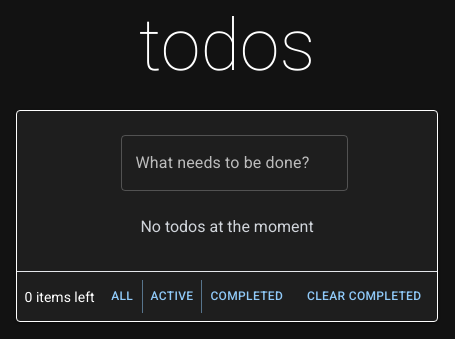
Scenario: Button appearance test › Button appears if input is not empty
The image size is (455, 339).
Type "New task" into the field with test id "input-task" at (235, 163), box x1=122 y1=135 x2=348 y2=191
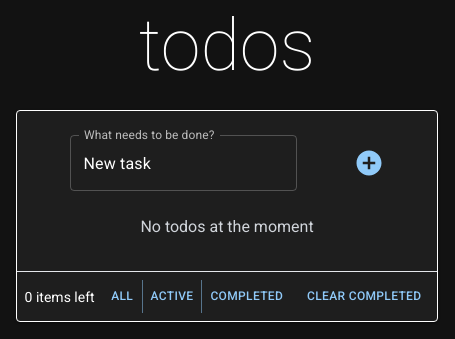
Expected: the button with test id "add-button" is shown, x1=346 y1=140 x2=392 y2=186
